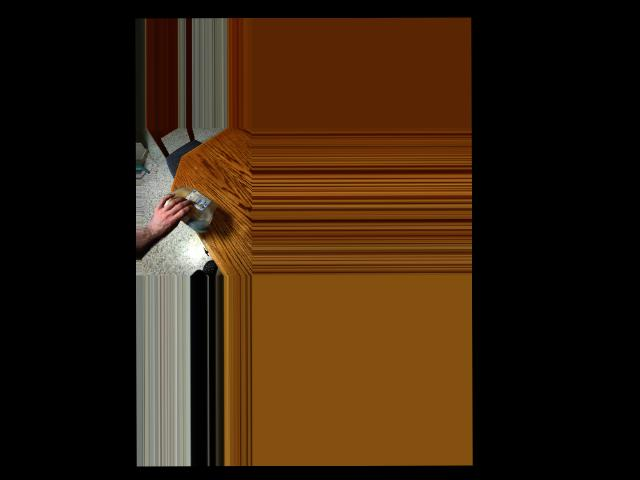cheese: (160, 184, 215, 230)
